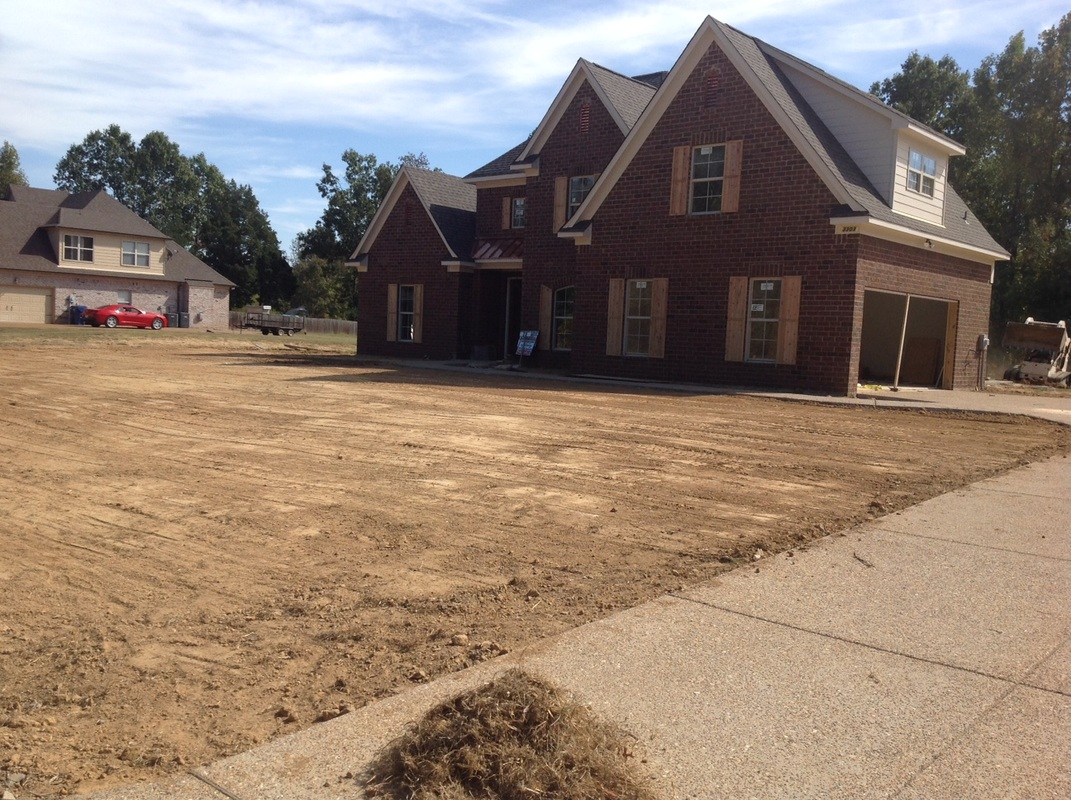dirt: (3, 337, 346, 773), (354, 379, 1063, 534), (352, 544, 525, 695), (531, 544, 673, 629)
